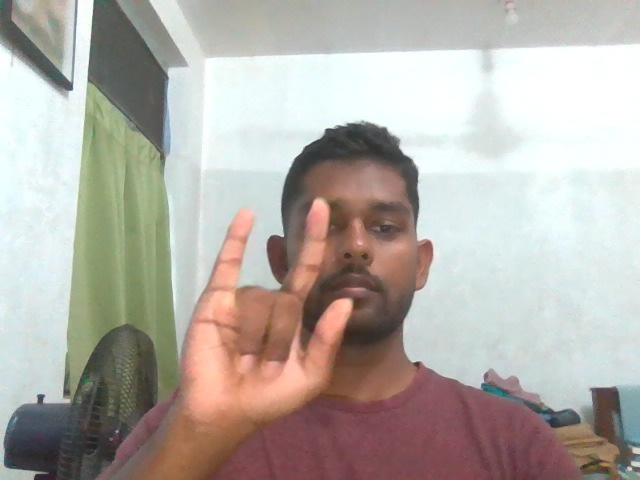hello: (159, 194, 359, 438)
